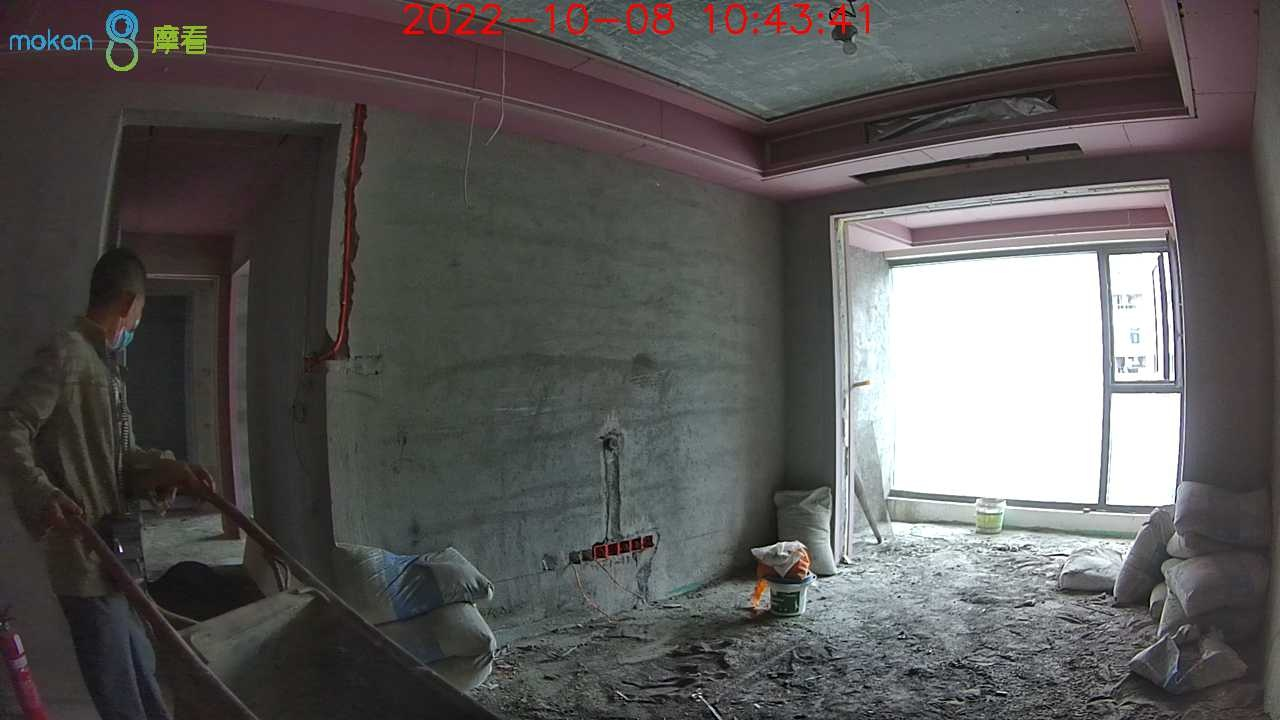people: (3, 249, 191, 720)
window: (880, 256, 1174, 502)
